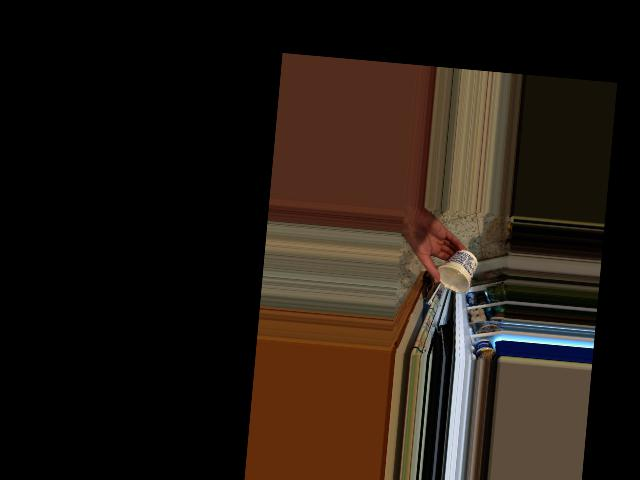cotage: (440, 249, 476, 293)
